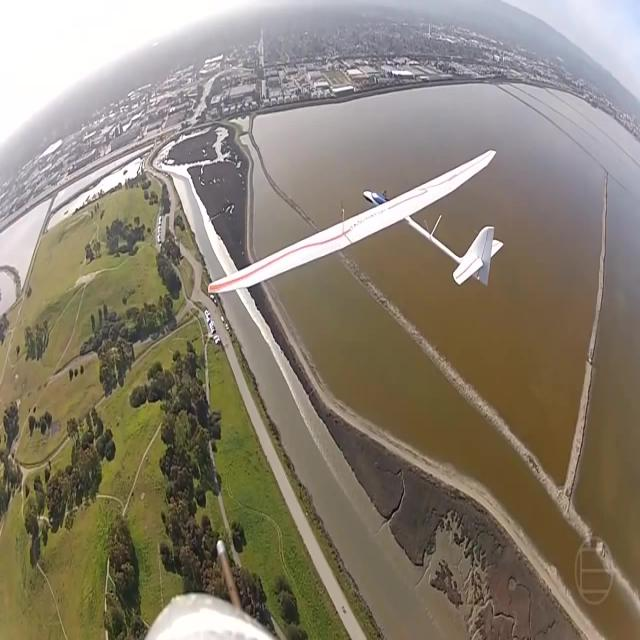iha: (208, 149, 503, 311)
